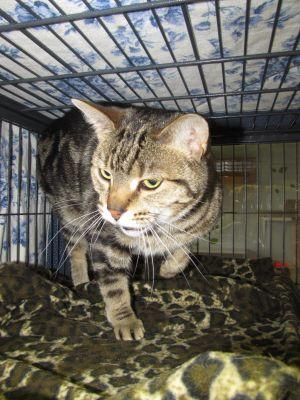bengal: (66, 85, 223, 244)
